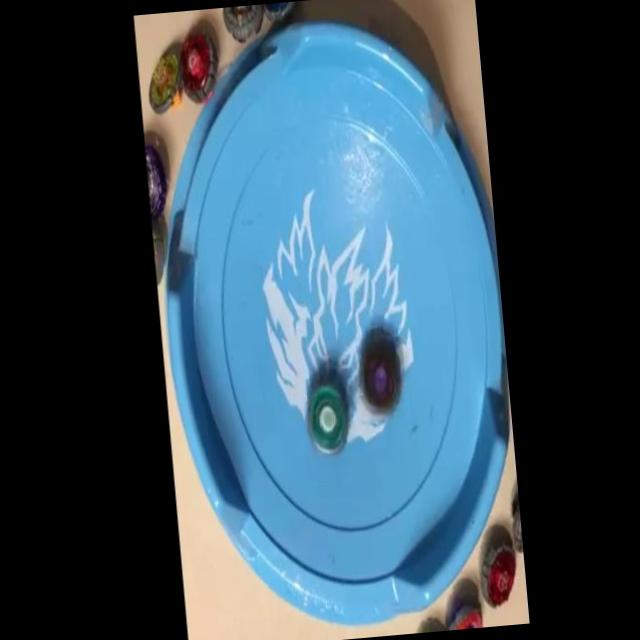Beyblade: (173, 29, 221, 104), (356, 342, 404, 416), (303, 383, 350, 456), (477, 540, 519, 610), (144, 45, 185, 115)
